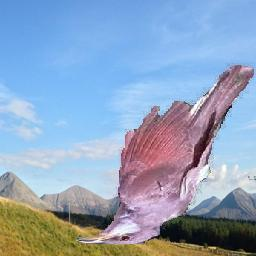Cuckoo: (76, 61, 254, 246)
